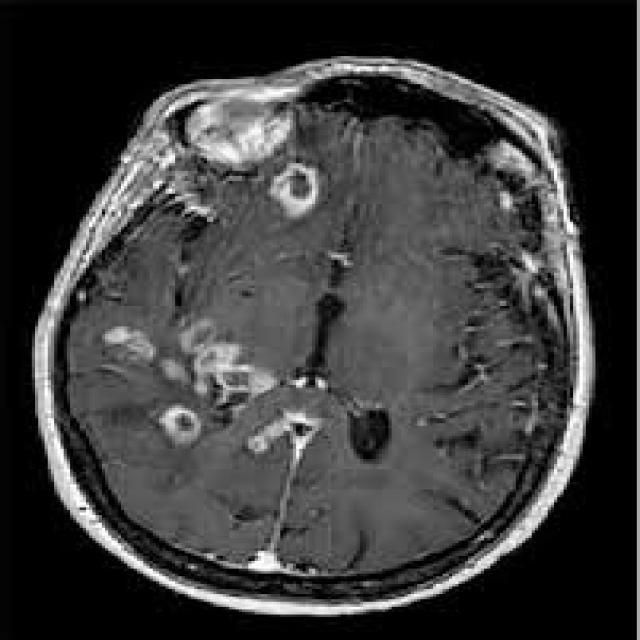Tumor-Cell: (106, 305, 289, 463)
